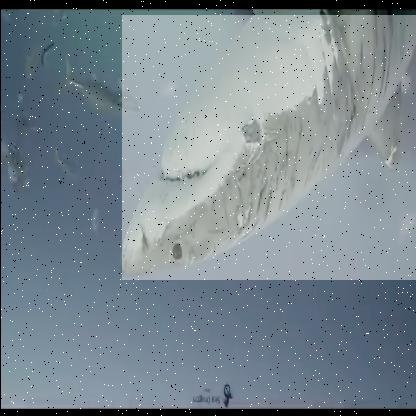white-shark: (120, 13, 415, 279)
